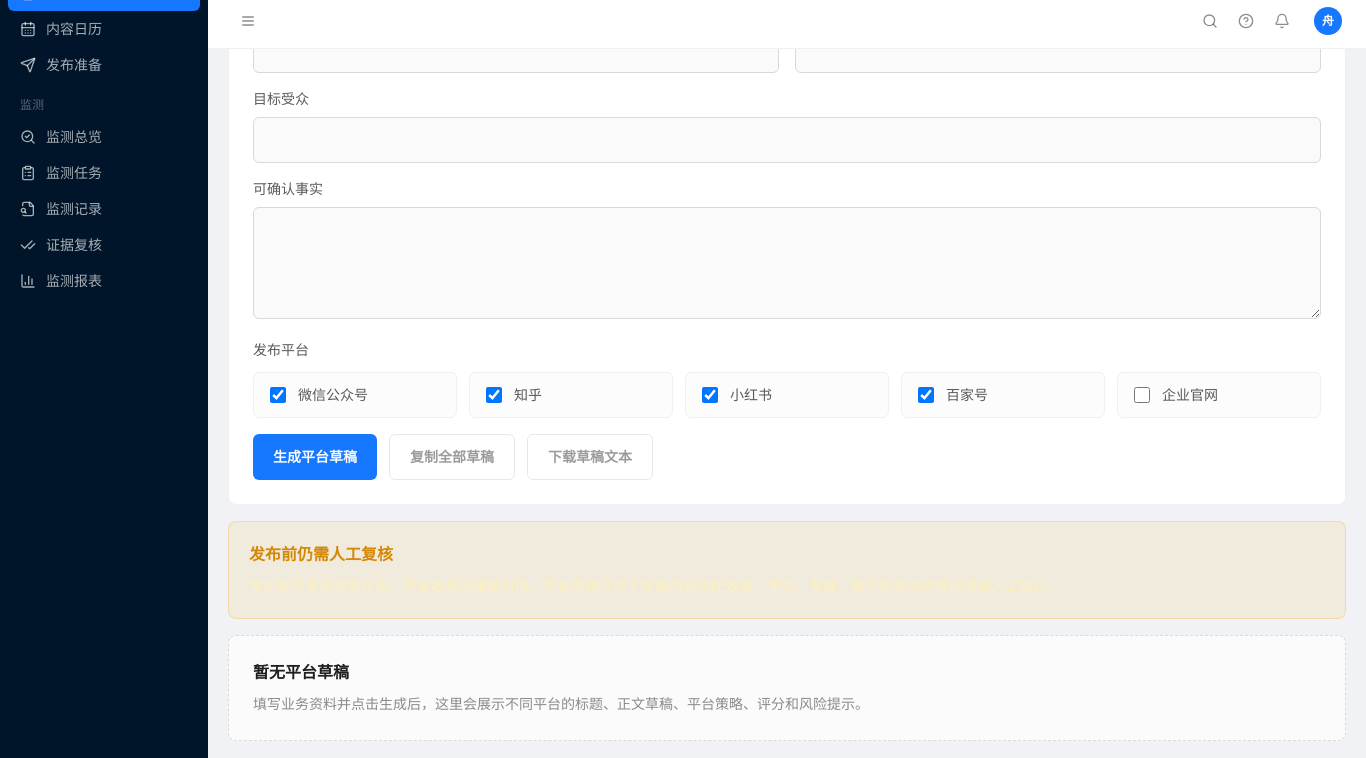
Test: P5 内容适配页面 › 缺少必填项时显示错误状态
This screenshot has width=1366, height=758.
(page scrolled)
What coordinates should you click on to do the following:
click the button "生成平台草稿"
I would click on:
 (315, 457)
Its box is [253, 434, 377, 480].
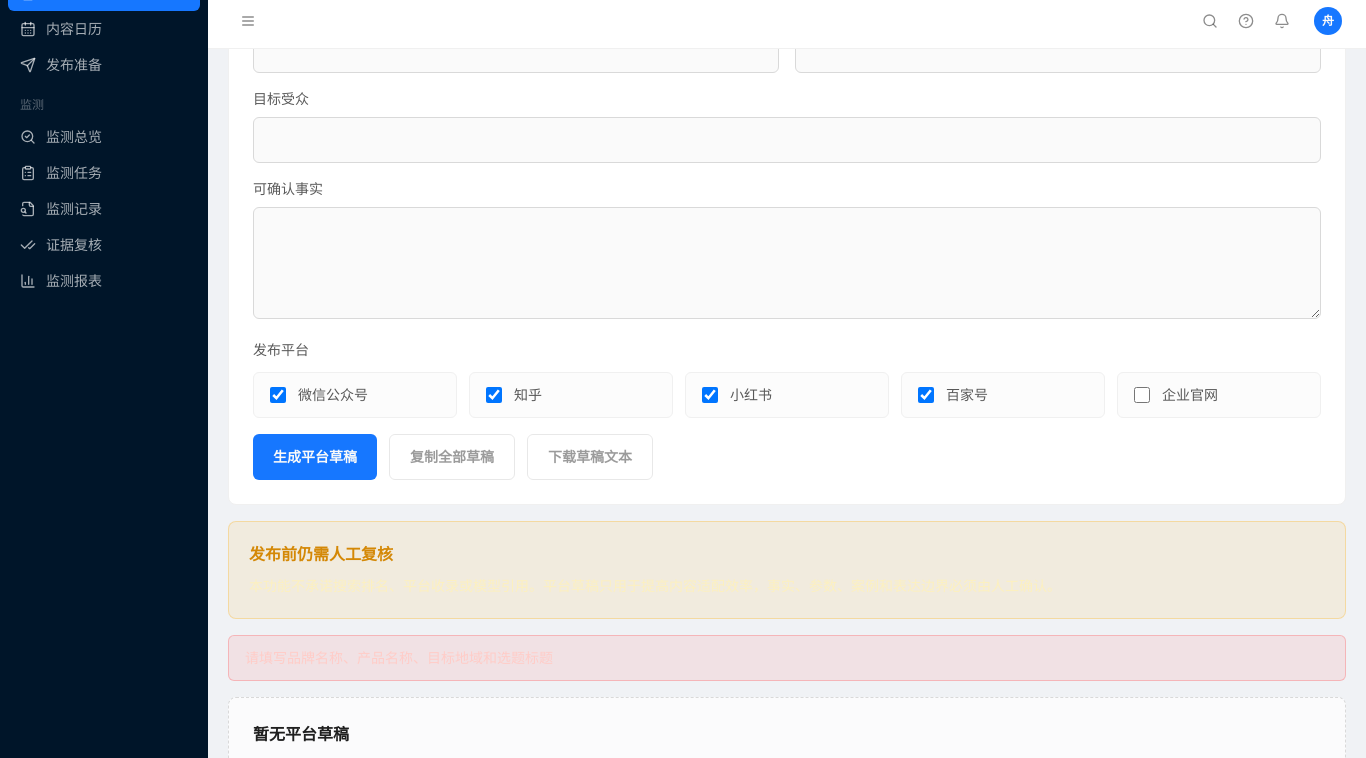
Result: the message reads "请填写品牌名称、产品名称、目标地域和选题标题" at [245, 649, 553, 666]
